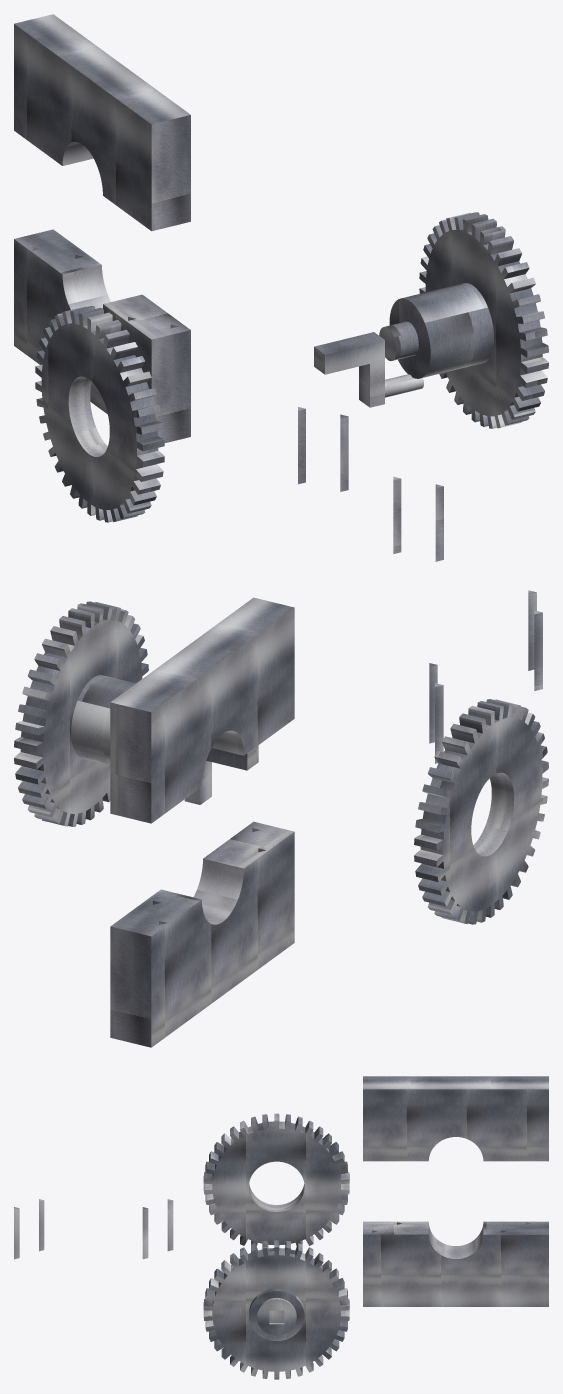
Rendered from Gears.glb.
The picture shows the model from 3 angles, top to bottom: view 1: azimuth 30°, elevation 25°; view 2: azimuth 150°, elevation 25°; view 3: azimuth 270°, elevation 25°; orthographic projection. The views are drawn at different scales.
Parts seen in each view (by area): view 1: devicerRk; view 2: devicerRk; view 3: devicerRk.
Part boxes in pixels (x1,y1,x2,y2): devicerRk: (14,14,548,561); devicerRk: (14,590,548,1047); devicerRk: (14,1076,548,1379).
Bounding box in the file's own units: 4.5 × 3.32 × 7.39.
Materials: 1 (1 with a texture image).
